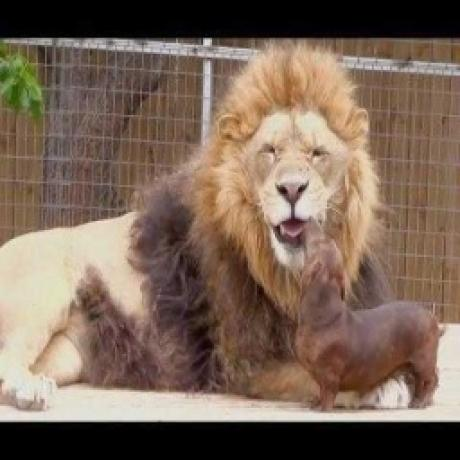Lion: (0, 38, 409, 399)
